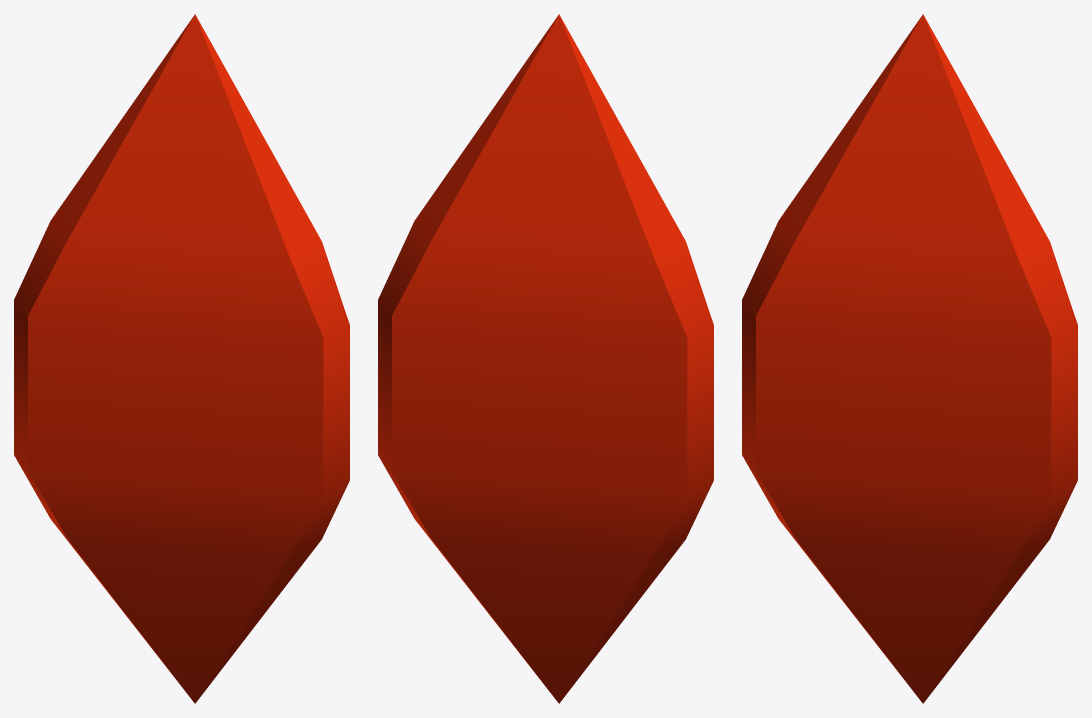
File: gem1.fbx
3 renders of one model, left to right at view 1: azimuth 30°, elevation 25°; view 2: azimuth 150°, elevation 25°; view 3: azimuth 270°, elevation 25°, orthographic.
Parts seen in each view (by area): view 1: Circle.005; view 2: Circle.005; view 3: Circle.005.
Boxes of the visible parts, x1=… form: Circle.005: x1=14, y1=14, x2=349, y2=703; Circle.005: x1=378, y1=14, x2=713, y2=703; Circle.005: x1=742, y1=14, x2=1077, y2=703.
Size of the model in its own units: 0.1958 by 0.4649 by 0.205.
